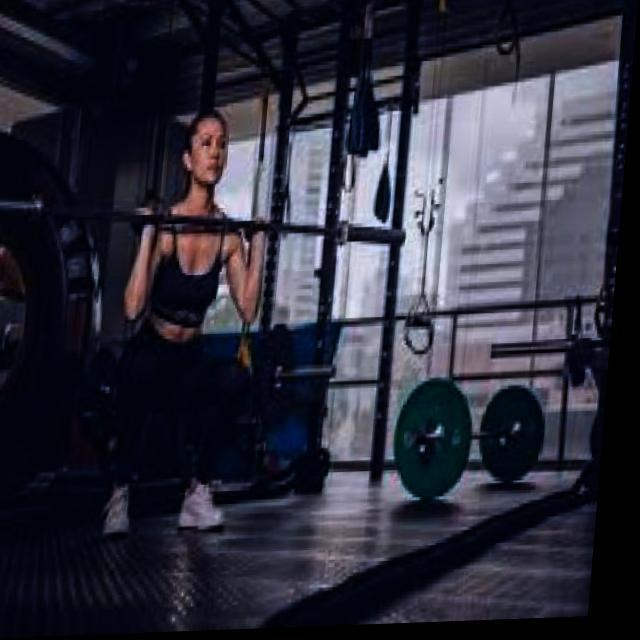barbell: (392, 377, 485, 509), (342, 218, 419, 253)
